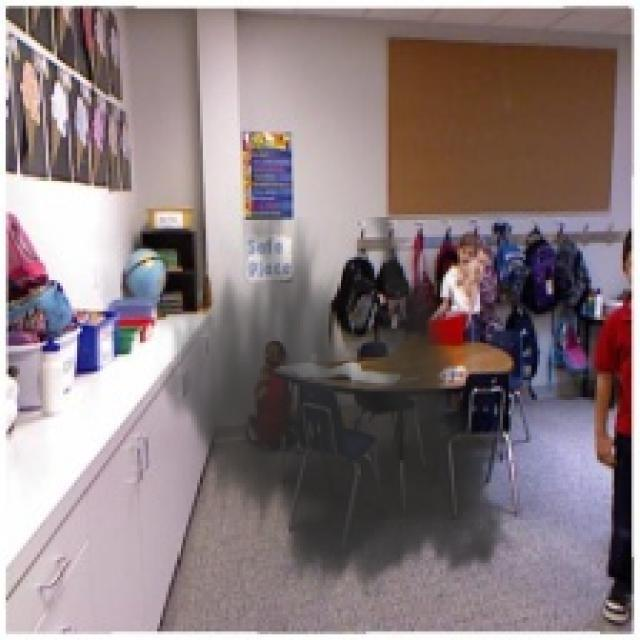Smoke: (151, 217, 523, 606)
